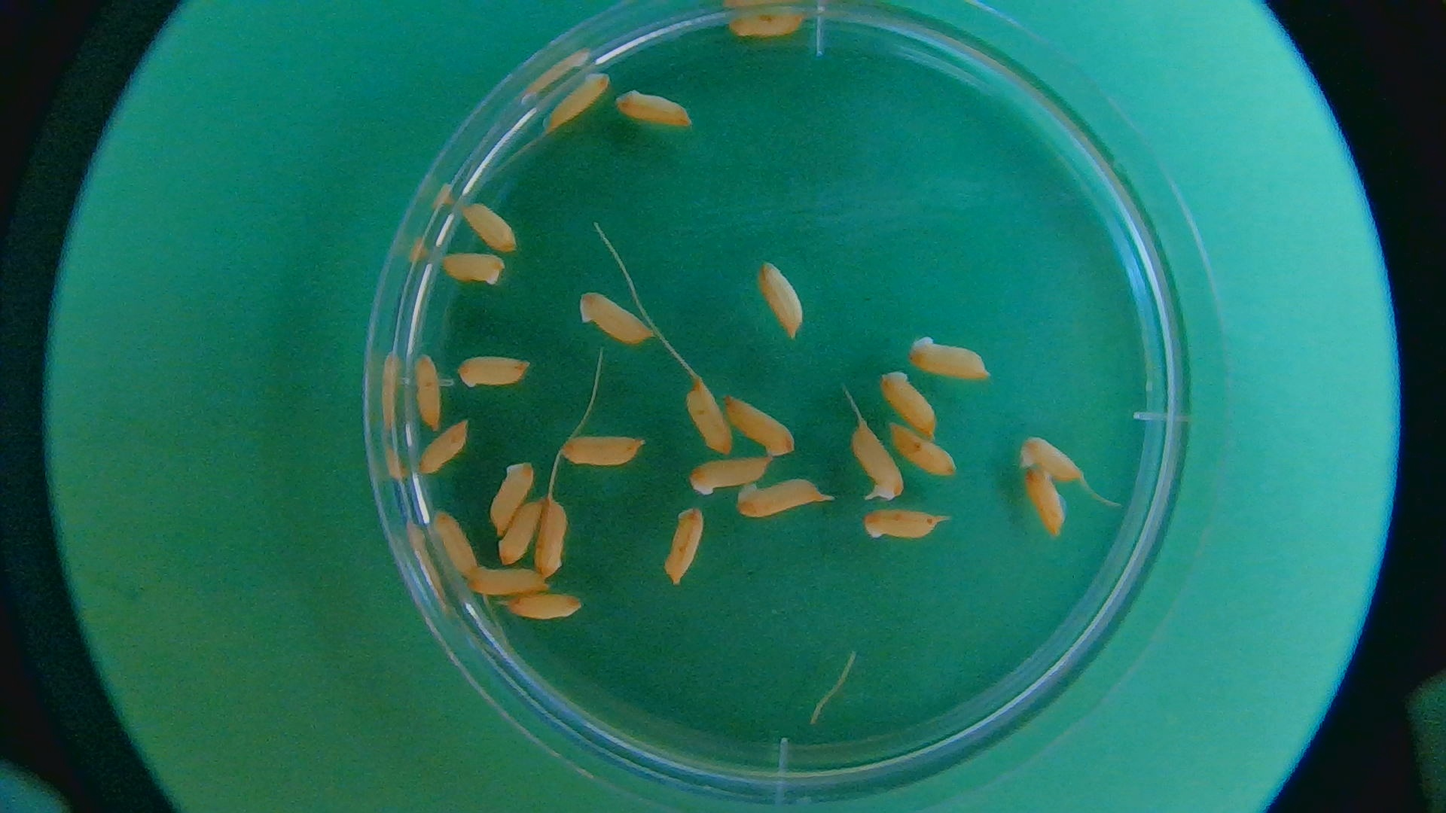no: (719, 392, 794, 458), (541, 71, 612, 139), (735, 474, 832, 522), (680, 449, 773, 498), (874, 368, 939, 437), (901, 333, 990, 383), (575, 288, 651, 346), (1024, 466, 1073, 553), (685, 369, 735, 454), (1013, 429, 1088, 483), (754, 259, 807, 334), (657, 507, 706, 585), (613, 88, 697, 132), (486, 461, 534, 538), (496, 491, 542, 569), (427, 510, 478, 577), (857, 505, 941, 543), (455, 201, 516, 252), (416, 418, 466, 479), (534, 493, 569, 580), (556, 434, 645, 467), (407, 352, 443, 430), (455, 352, 528, 390), (468, 565, 547, 599), (496, 589, 578, 620), (441, 248, 504, 286), (725, 11, 809, 38)
yes: (850, 423, 907, 498)
